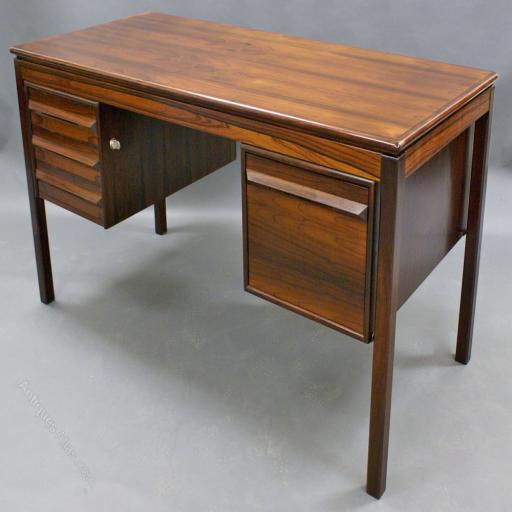desk: (9, 11, 499, 500)
